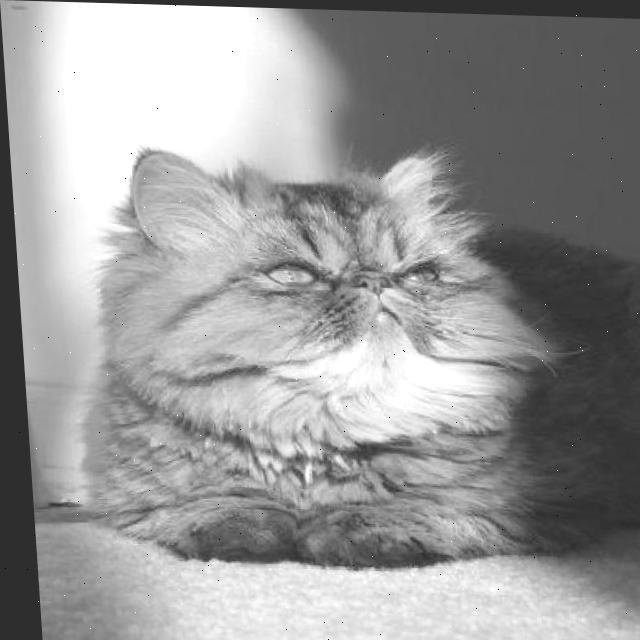Cat: (69, 148, 613, 577)
